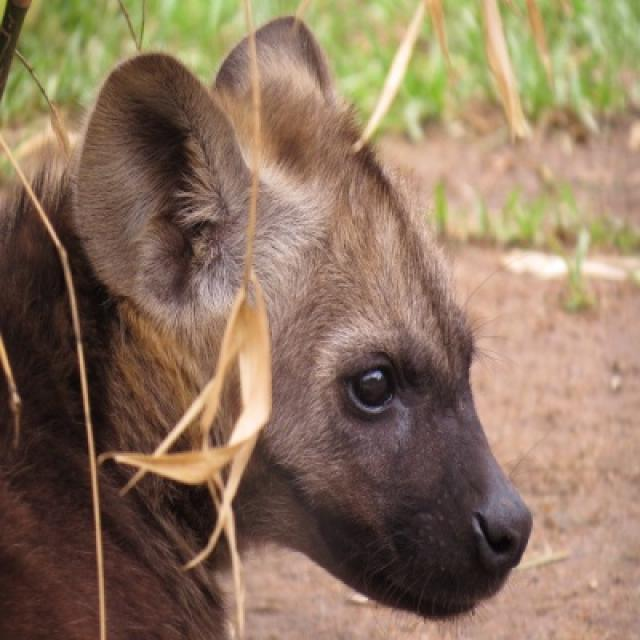hyena: (0, 16, 534, 638)
